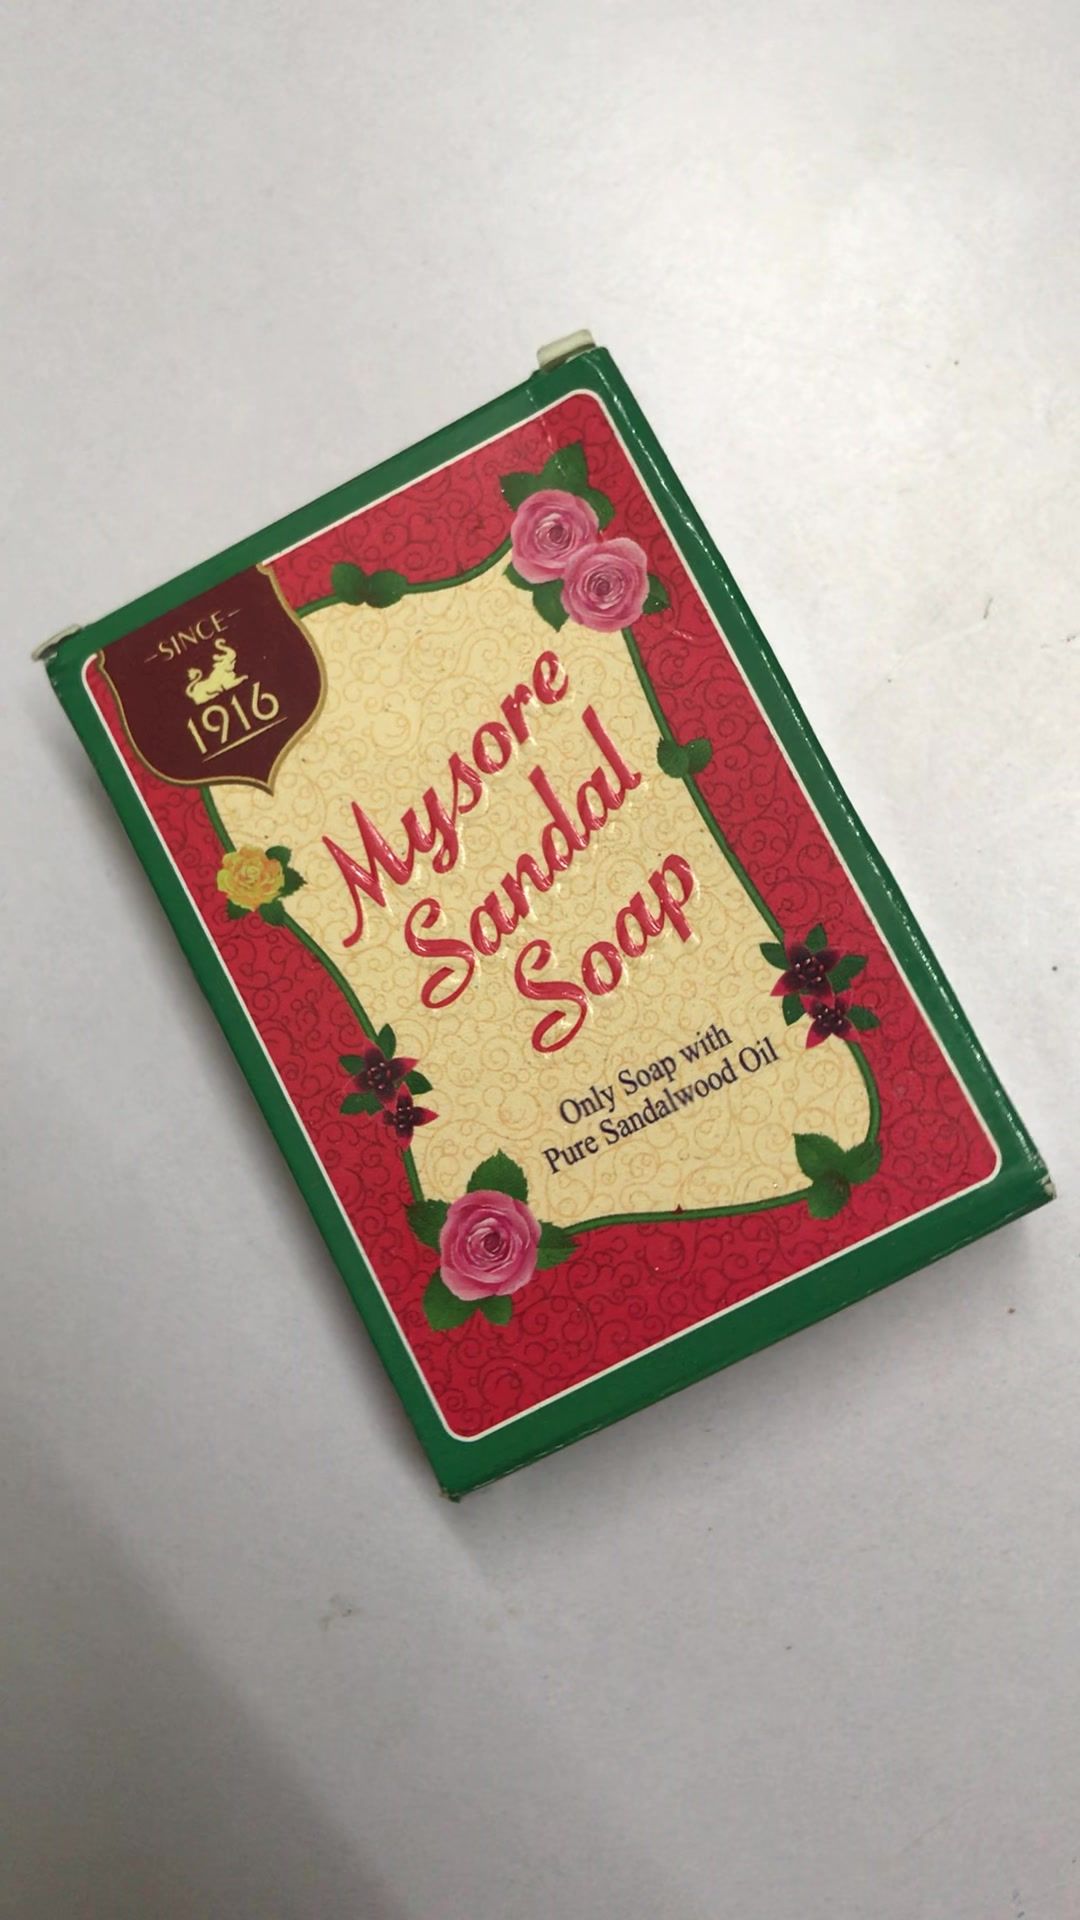mysore sandal soap: (44, 345, 1054, 1509)
